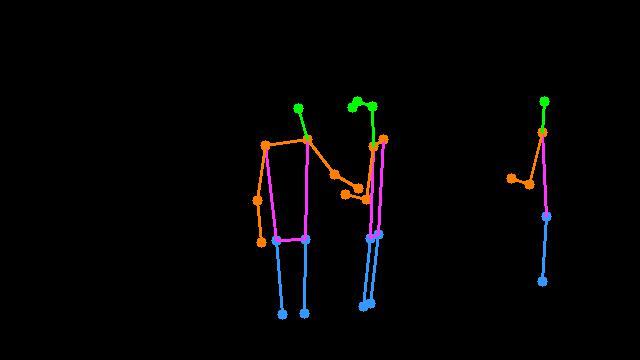normal: (236, 73, 405, 330)
